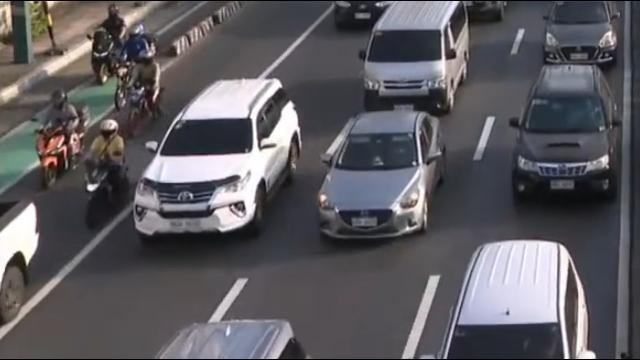car: (131, 76, 304, 249), (413, 235, 601, 360), (313, 106, 447, 243), (509, 64, 624, 208), (540, 0, 625, 64)
motorcycle: (34, 115, 87, 192), (83, 160, 132, 231), (125, 76, 165, 133), (109, 43, 142, 106), (88, 26, 119, 83)
van: (354, 0, 474, 115)
